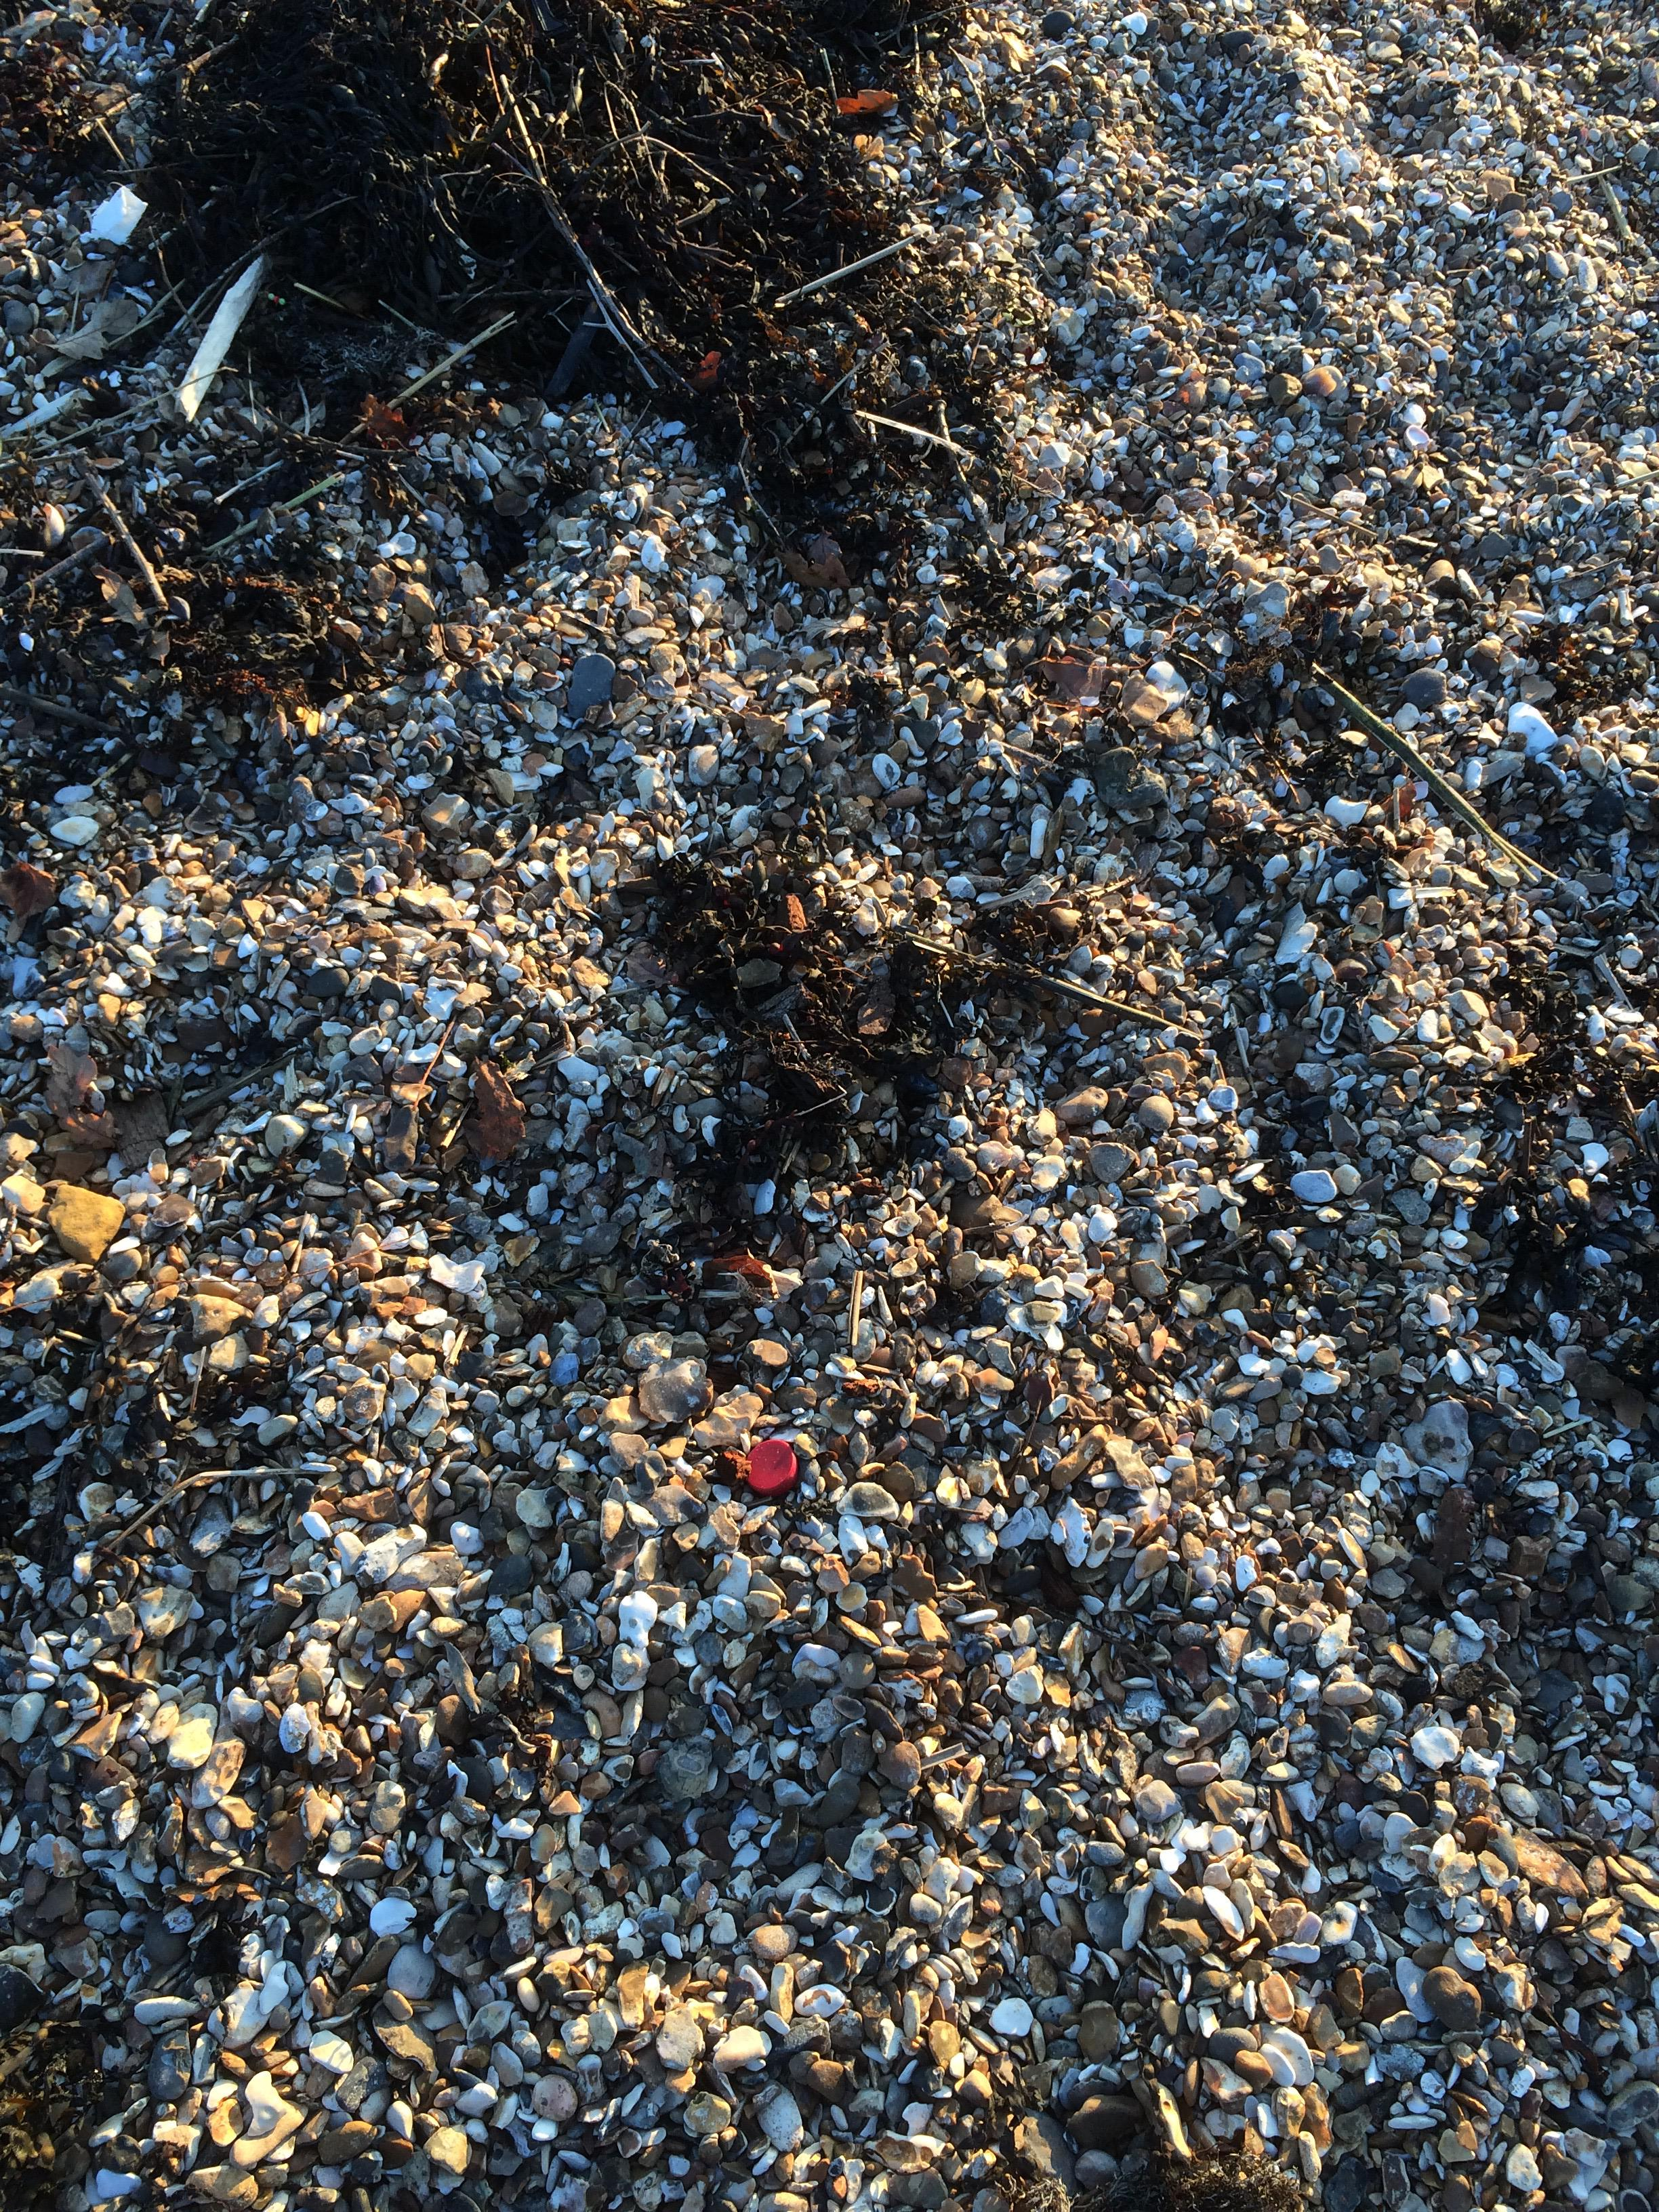Trash: (737, 1433, 796, 1486)
